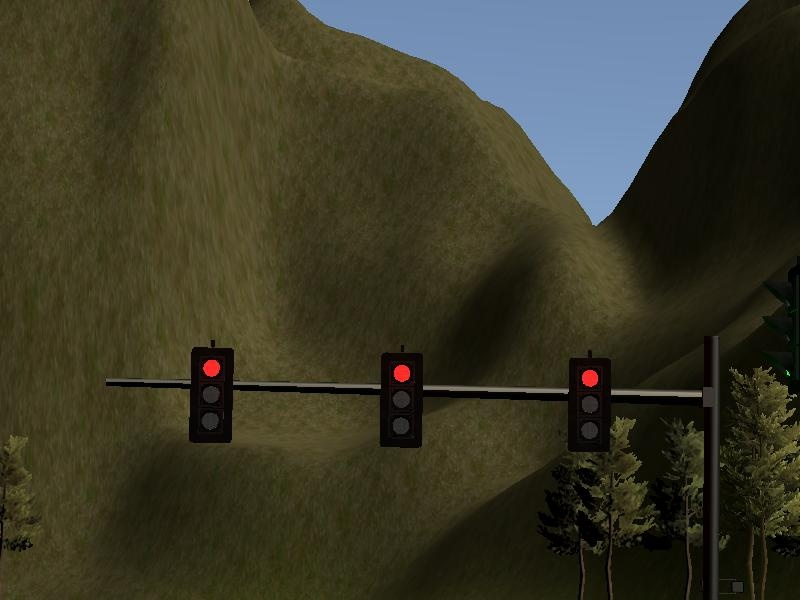red: (190, 347, 232, 444), (569, 355, 610, 451), (381, 352, 421, 447)
